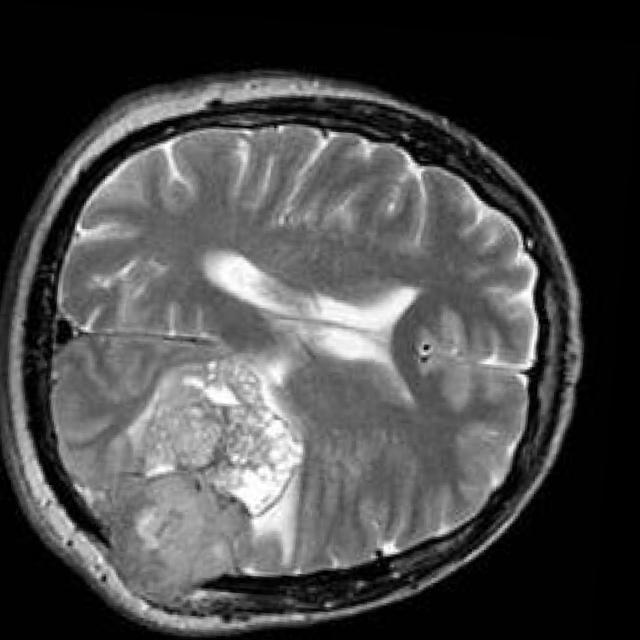Tumor: (143, 352, 308, 512), (120, 467, 260, 614)
